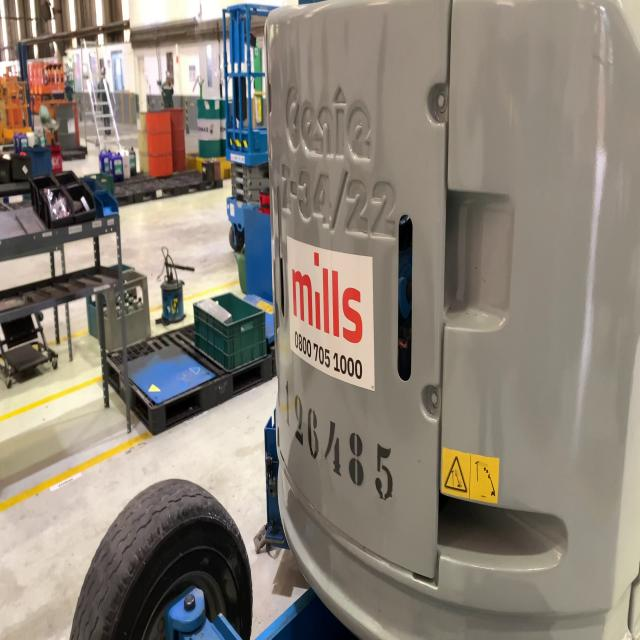Adesivos: (282, 224, 380, 399)
